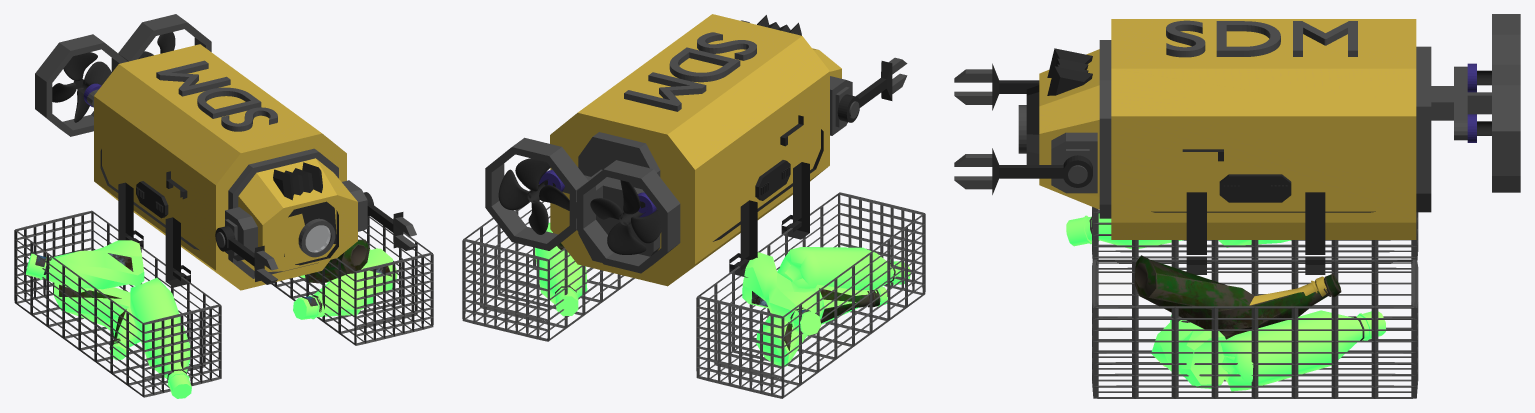
Rendered from collector_with_2bottles.glb.
The picture shows the model from 3 angles, left to right: view 1: azimuth 30°, elevation 25°; view 2: azimuth 150°, elevation 25°; view 3: azimuth 270°, elevation 25°; orthographic projection. The views are drawn at different scales.
Visible parts, largest first — view 1: Plastic_Bottle_01_GEO.006, neck, Plastic_Bottle_01_GEO.012, Plastic_Bottle_01_GEO.007, camera_lens; view 2: Plastic_Bottle_01_GEO.006, neck, Plastic_Bottle_01_GEO.012, Plastic_Bottle_01_GEO.007, Circle.002; view 3: Plastic_Bottle_01_GEO.006, neck, Plastic_Bottle_01_GEO.012, Plastic_Bottle_01_GEO.007, Circle.002.
Part boxes in pixels (<box>): Plastic_Bottle_01_GEO.006: <box>52,32,403,290</box>; neck: <box>14,14,433,397</box>; Plastic_Bottle_01_GEO.012: <box>26,240,397,398</box>; Plastic_Bottle_01_GEO.007: <box>35,239,391,380</box>; camera_lens: <box>305,225,330,252</box>; Plastic_Bottle_01_GEO.006: <box>498,14,892,286</box>; neck: <box>462,20,925,398</box>; Plastic_Bottle_01_GEO.012: <box>535,222,910,366</box>; Plastic_Bottle_01_GEO.007: <box>555,243,895,350</box>; Circle.002: <box>539,170,656,217</box>; Plastic_Bottle_01_GEO.006: <box>992,19,1491,305</box>; neck: <box>954,14,1520,398</box>; Plastic_Bottle_01_GEO.012: <box>1066,213,1385,391</box>; Plastic_Bottle_01_GEO.007: <box>1089,217,1364,340</box>; Circle.002: <box>1467,63,1476,142</box>.
Bounding box in the file's own units: 4.3 × 2.99 × 5.53.
Materials: 6 (6 with a texture image).
